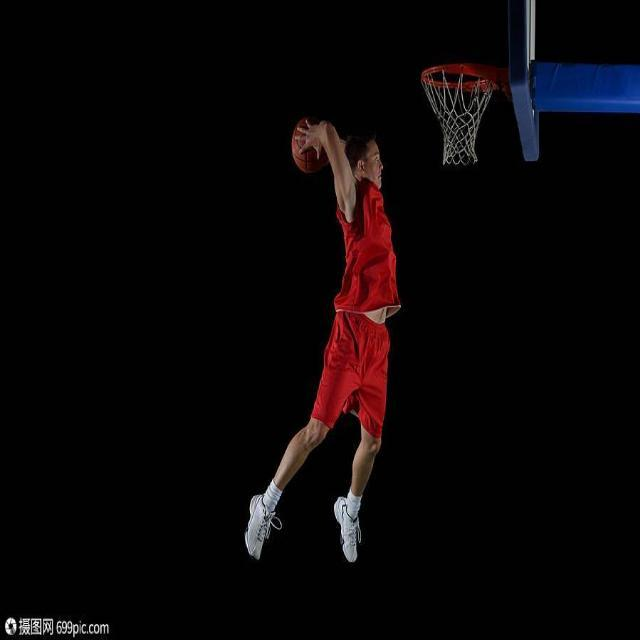rim: (292, 118, 326, 173)
